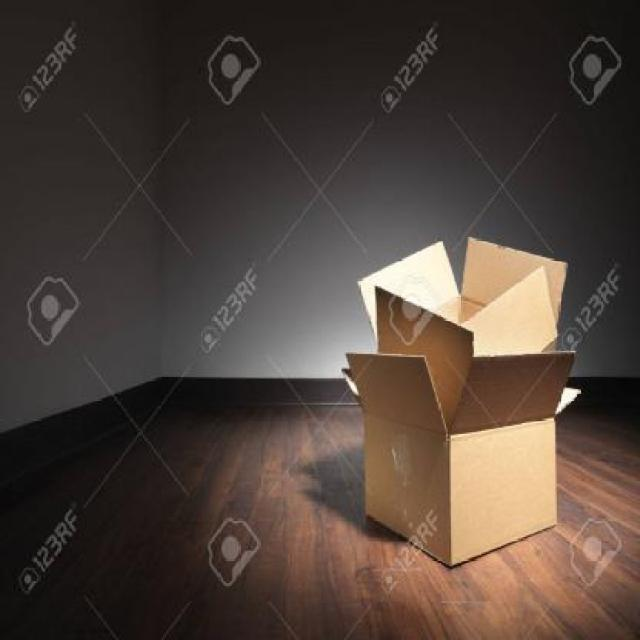box: (348, 356, 568, 571), (364, 236, 574, 417)
